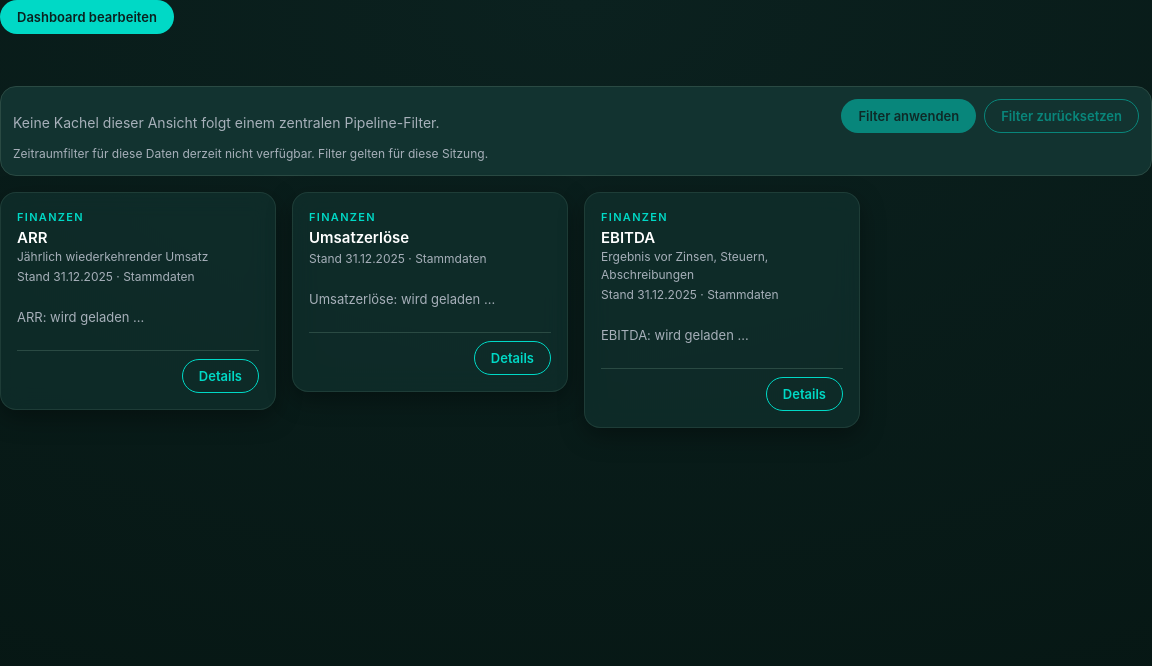
Test case: DashboardWorkspace – Konfigurationsfenster und Verlassen › schließt das Konfigurationsfenster mit Escape und gibt den Fokus zurück
Click the button "Dashboard bearbeiten" at (87,17), box [0, 0, 174, 34]
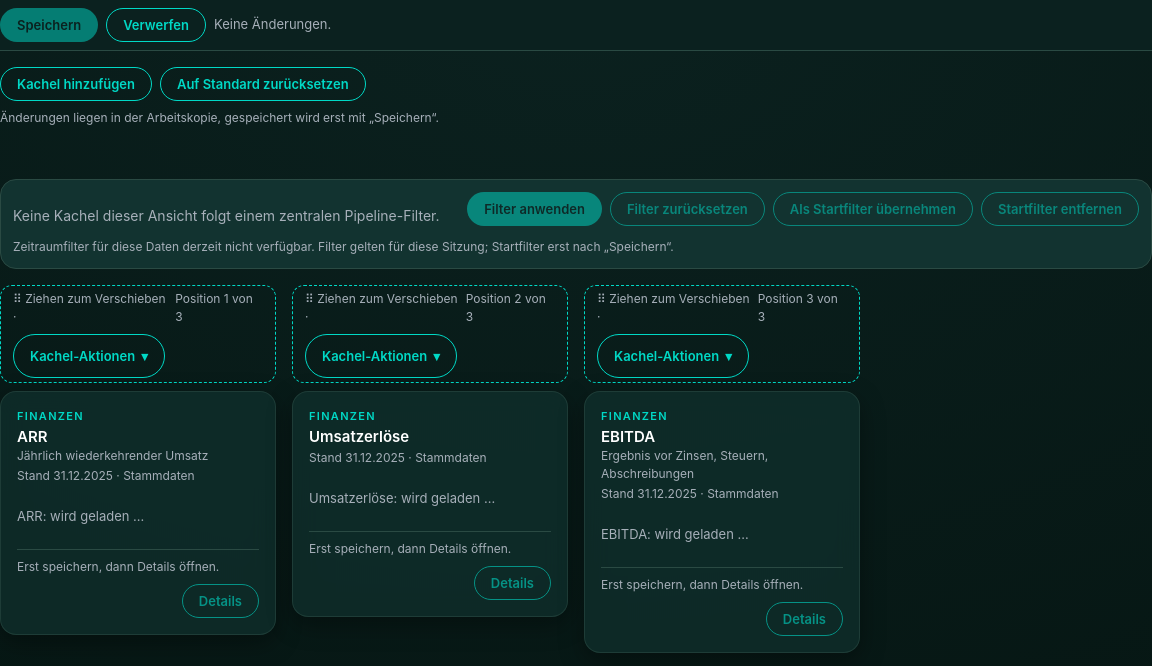
Click the button "Kachel-Aktionen ▾" below "Position 1 von 3" at (89,356), box [13, 334, 165, 378]
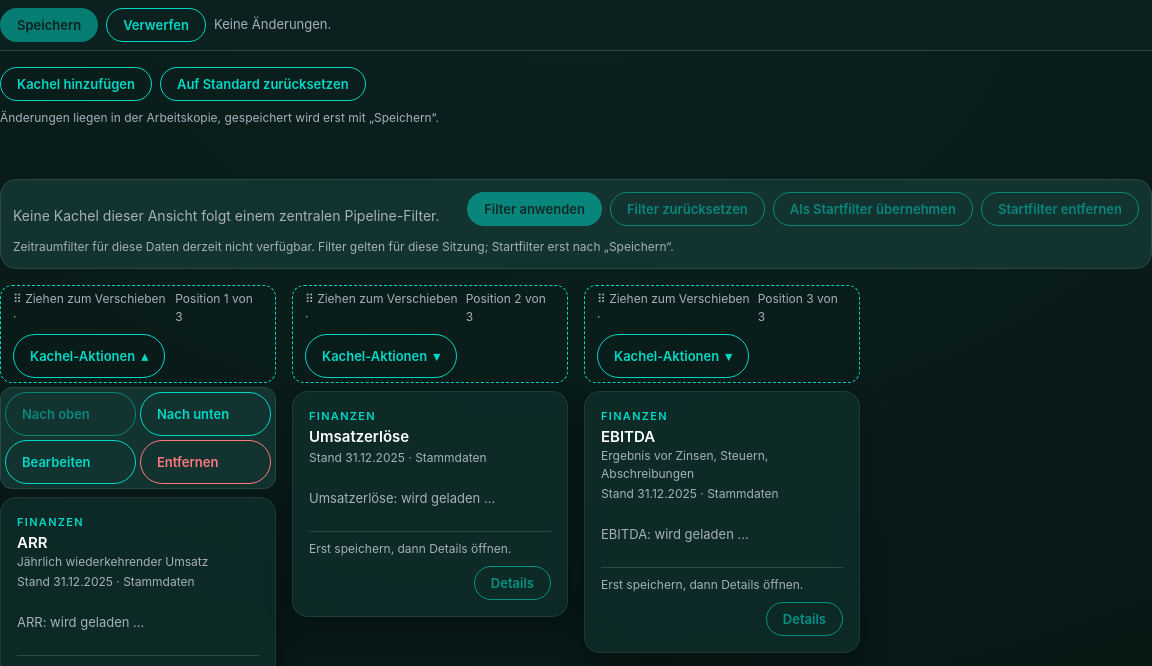
Click the button "Kachel-Aktionen ▾" below "Position 2 von 3" at (381,356), box [305, 334, 457, 378]
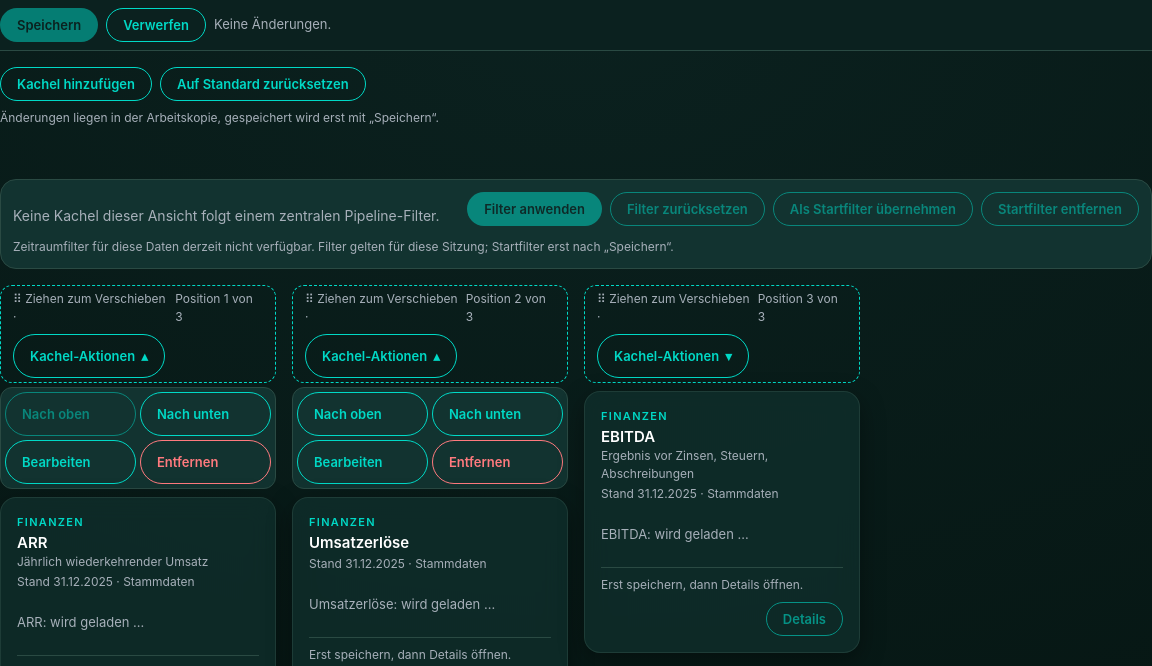
Click the button "Kachel-Aktionen ▾" at (673,356), box [597, 334, 749, 378]
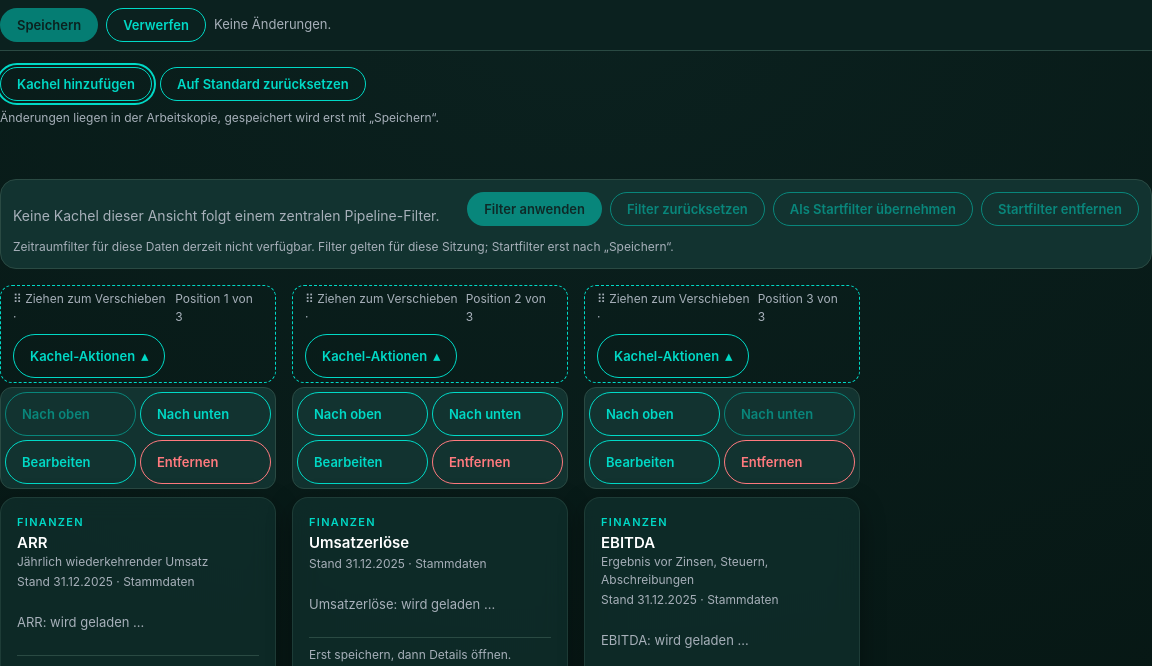
Click the button "Kachel hinzufügen" at (76,84), box [0, 67, 152, 101]
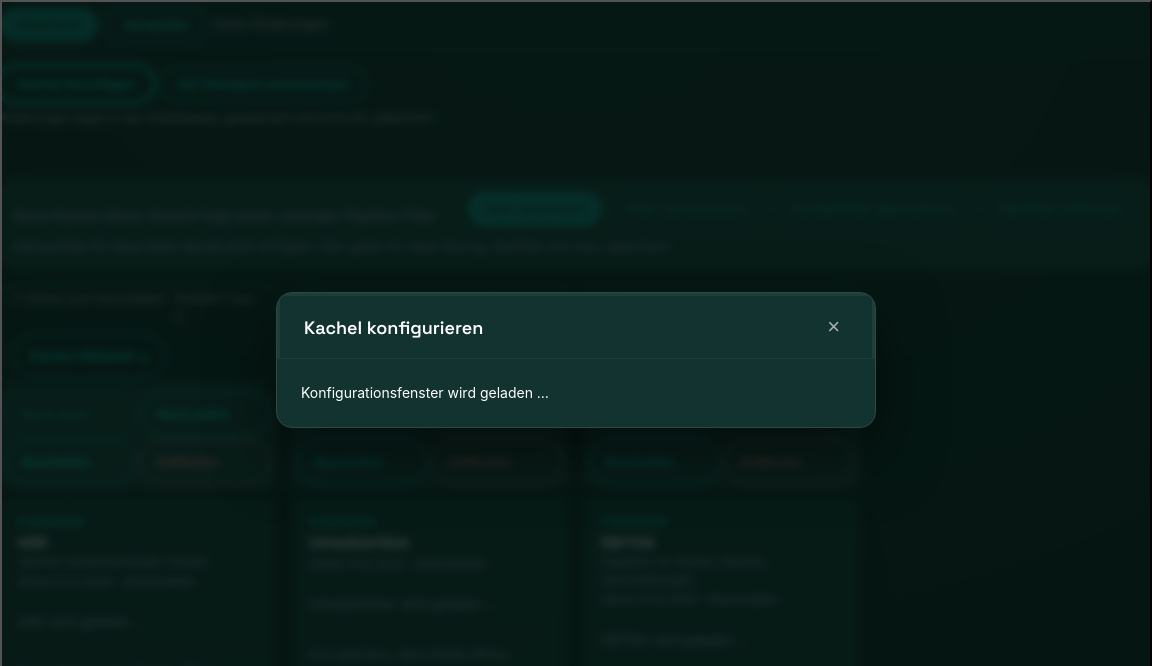
Check: the dialog is shown, box [276, 292, 876, 428]
Press Escape in the button named "Dialog schließen", box [819, 312, 848, 342]
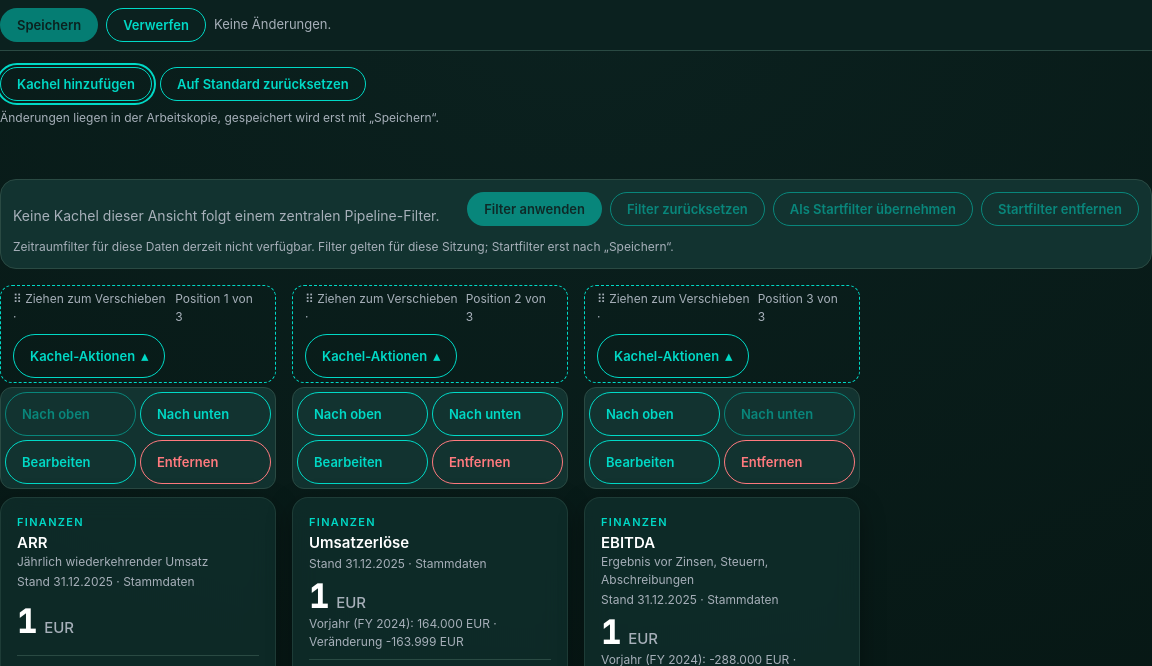
Check: the dialog is gone
